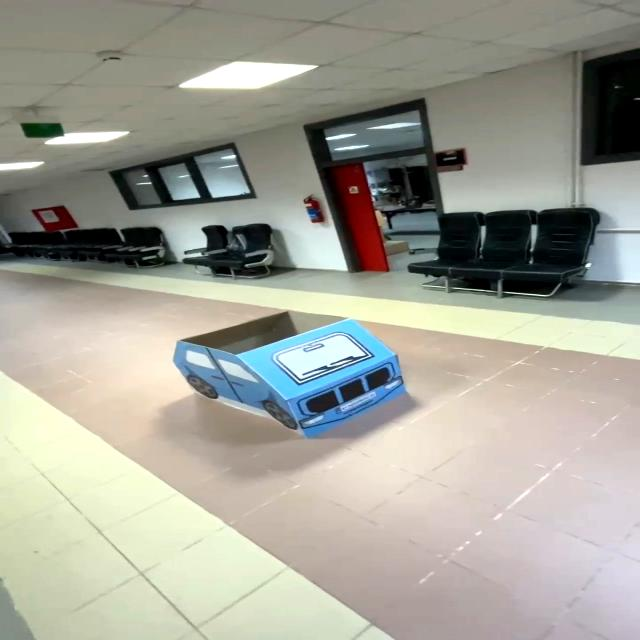blue_car: (137, 294, 432, 456)
